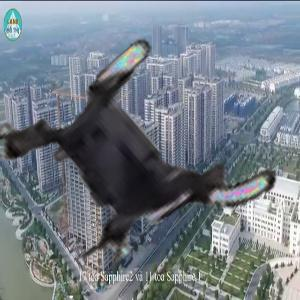drone: (7, 34, 260, 287)
